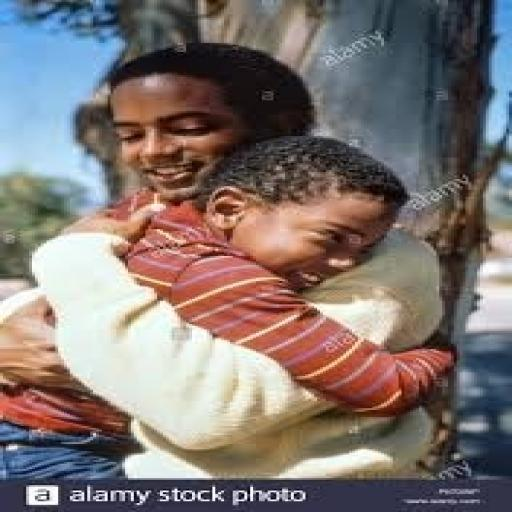hugging: (3, 39, 460, 480)
